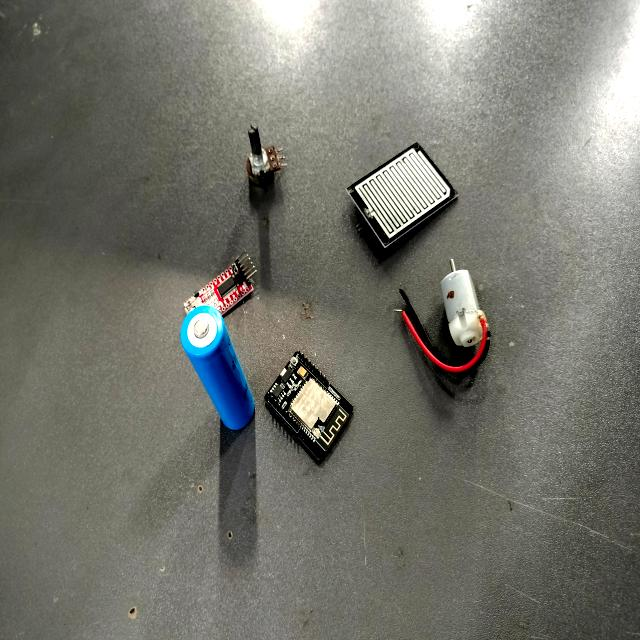3-3-Volt-Battery: (177, 306, 261, 438)
DC-Motor: (435, 245, 494, 362)
ESP32-CAM: (262, 348, 357, 468)
FT-232-USB-Serial-Module: (181, 249, 268, 334)
Raindrops-Module: (342, 139, 462, 252)
Taper-Potentiometer: (239, 120, 293, 199)
